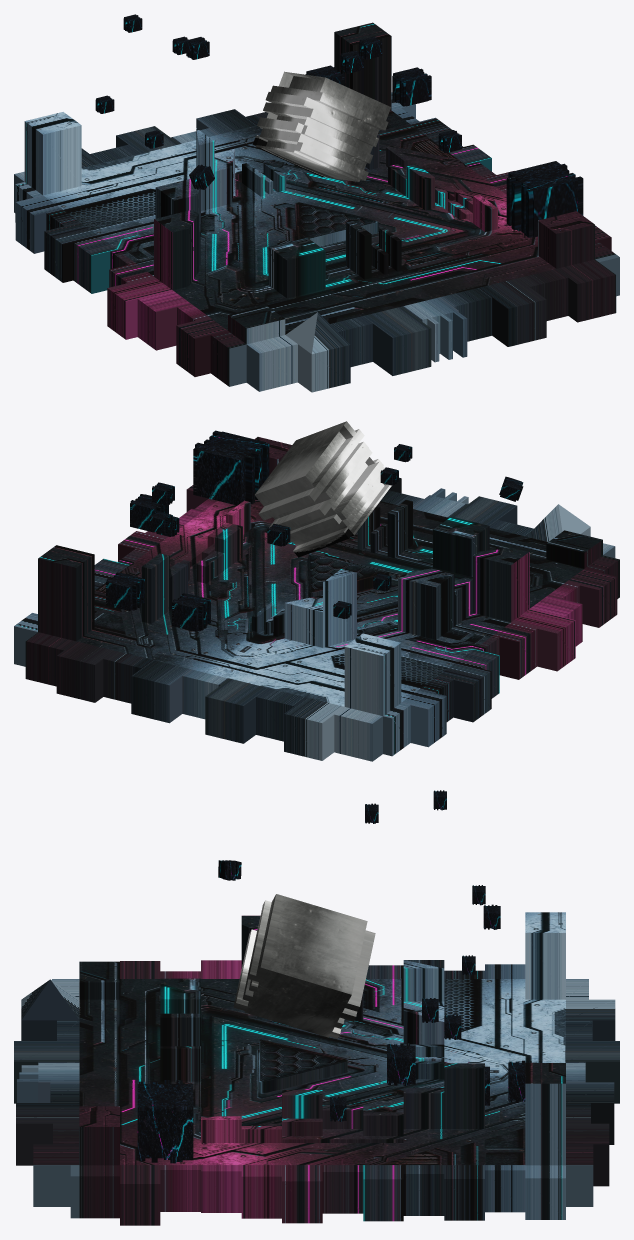
The model's file is the_core_cognition.glb.
3 renders of one model, top to bottom at view 1: azimuth 30°, elevation 25°; view 2: azimuth 150°, elevation 25°; view 3: azimuth 270°, elevation 25°, orthographic. The views are drawn at different scales.
Visible parts, largest first — view 1: Platform, Core.009, Grunt.002, Platform.001, Grunt; view 2: Platform, Core.009, Platform.001, Grunt.002, Grunt.007, Grunt.008, Grunt, Grunt.018; view 3: Platform, Core.009, Grunt.002, Platform.001, Grunt, Grunt.008.
Boxes of the visible parts, left/top/right/bottom form: Platform: left=14, top=92, right=619, bottom=392; Core.009: left=253, top=71, right=390, bottom=181; Grunt.002: left=506, top=161, right=583, bottom=237; Platform.001: left=334, top=22, right=391, bottom=110; Grunt: left=392, top=67, right=431, bottom=106; Platform: left=14, top=437, right=619, bottom=761; Core.009: left=255, top=421, right=391, bottom=557; Platform.001: left=38, top=545, right=94, bottom=641; Grunt.002: left=193, top=430, right=269, bottom=505; Grunt.007: left=172, top=593, right=210, bottom=631; Grunt.008: left=106, top=572, right=144, bottom=610; Grunt: left=130, top=494, right=168, bottom=532; Grunt.018: left=267, top=524, right=290, bottom=546; Platform: left=14, top=912, right=619, bottom=1225; Core.009: left=233, top=894, right=375, bottom=1038; Grunt.002: left=137, top=1080, right=193, bottom=1163; Platform.001: left=525, top=1063, right=565, bottom=1165; Grunt: left=387, top=1043, right=415, bottom=1085; Grunt.008: left=508, top=1060, right=536, bottom=1102.
Bounding box in the file's own units: 3.25 × 2.26 × 3.62.
Materials: 3 (3 with a texture image).
